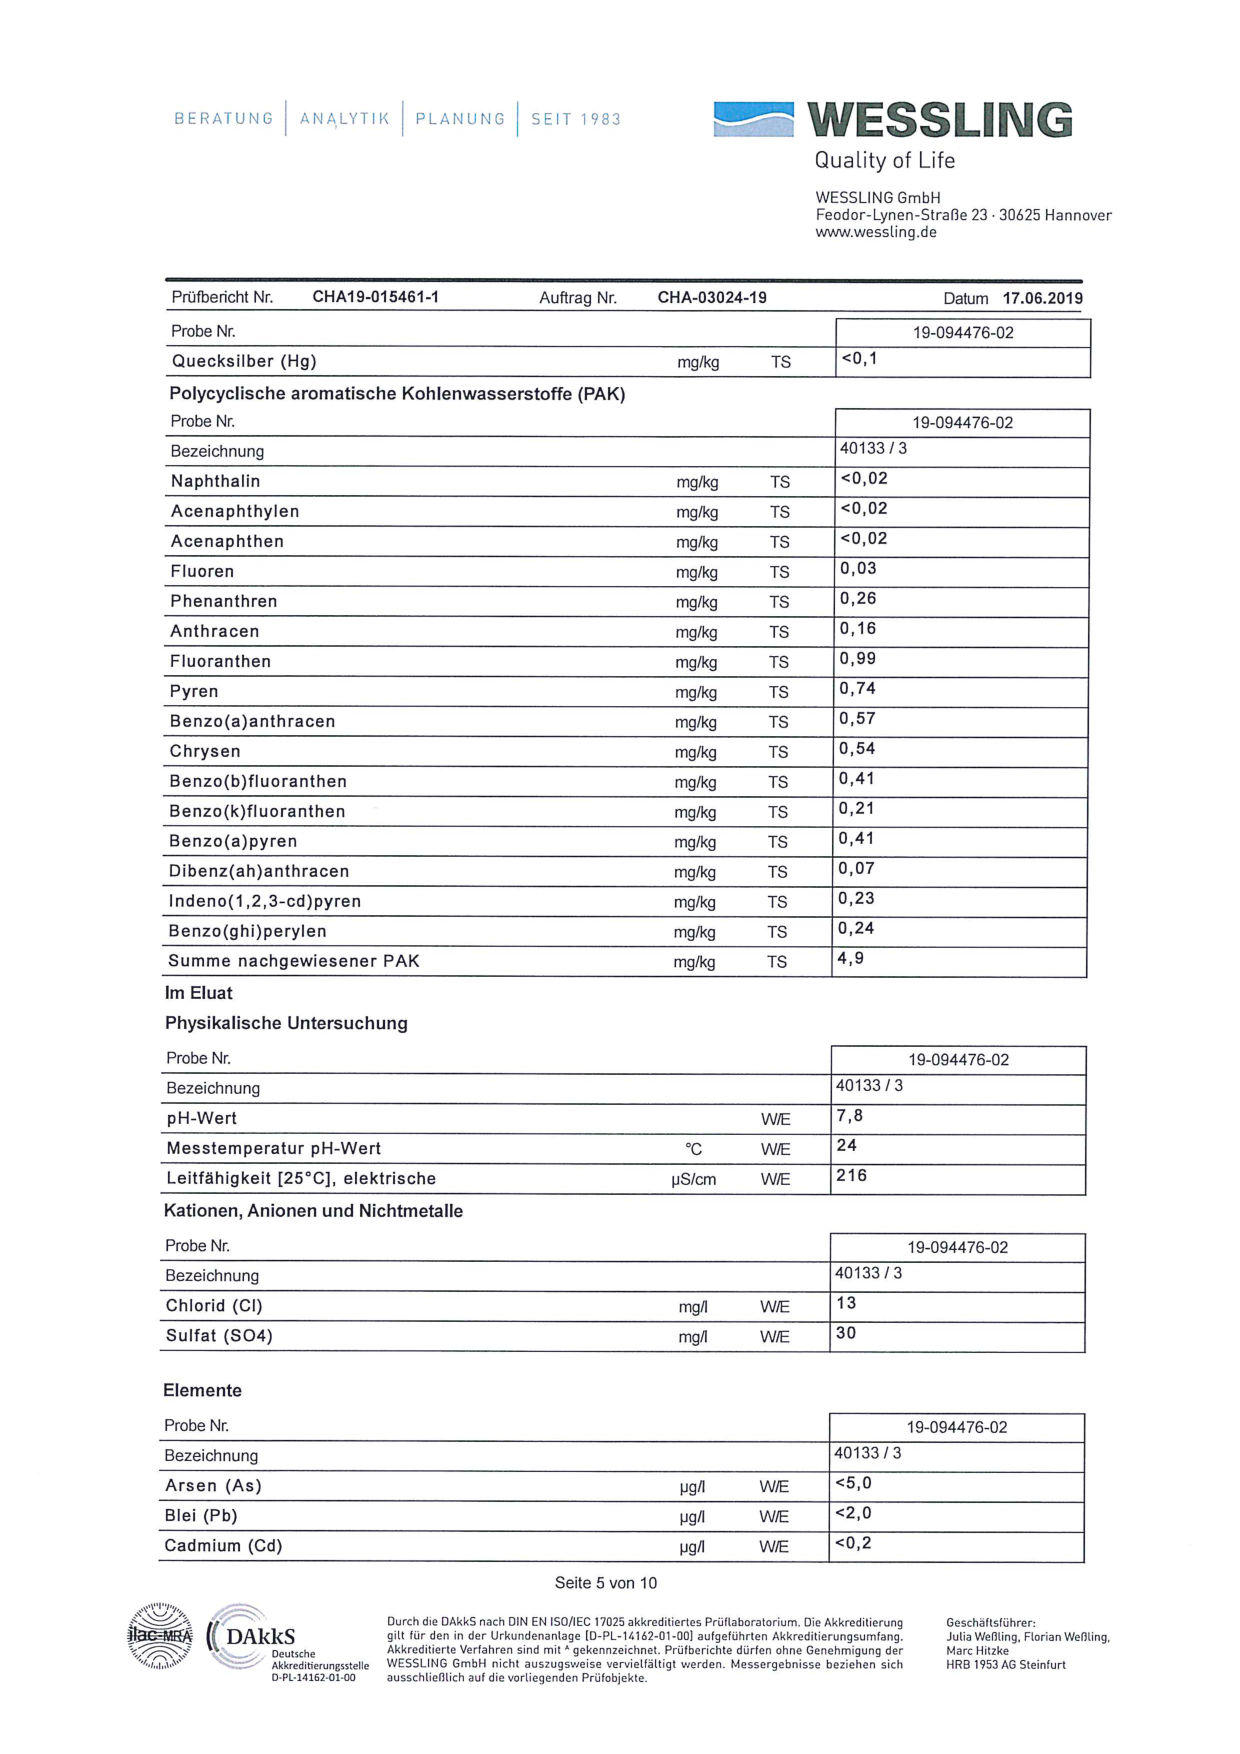table: (153, 404, 1096, 981), (152, 1404, 1096, 1574), (153, 1037, 1100, 1200), (153, 1227, 1096, 1368), (161, 311, 1100, 385)
